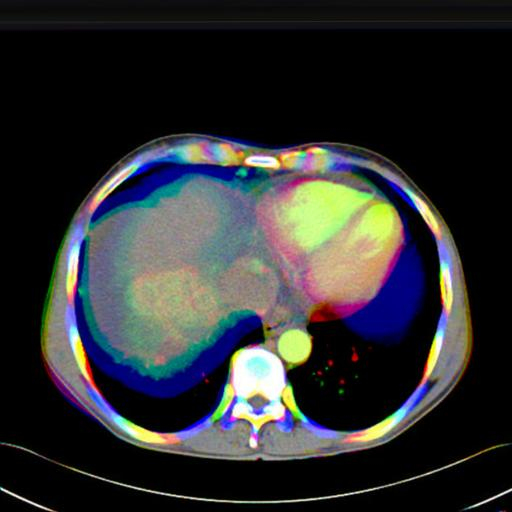Tumor: (220, 258, 278, 317)
